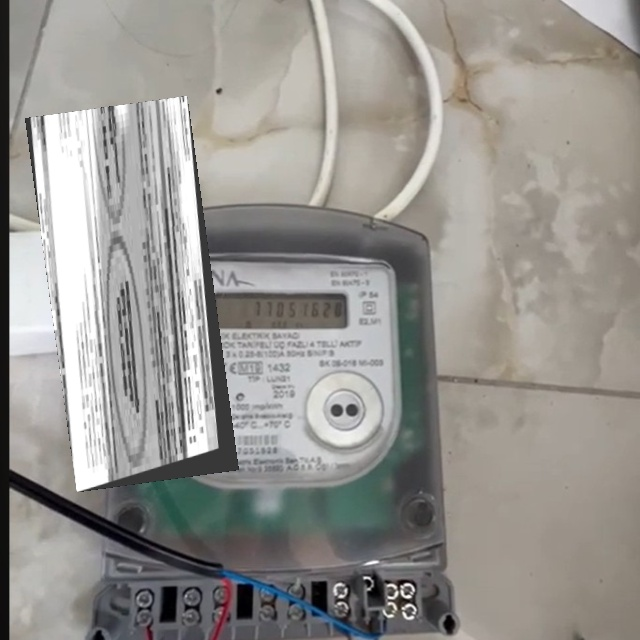electricity-bill: (25, 96, 239, 492)
